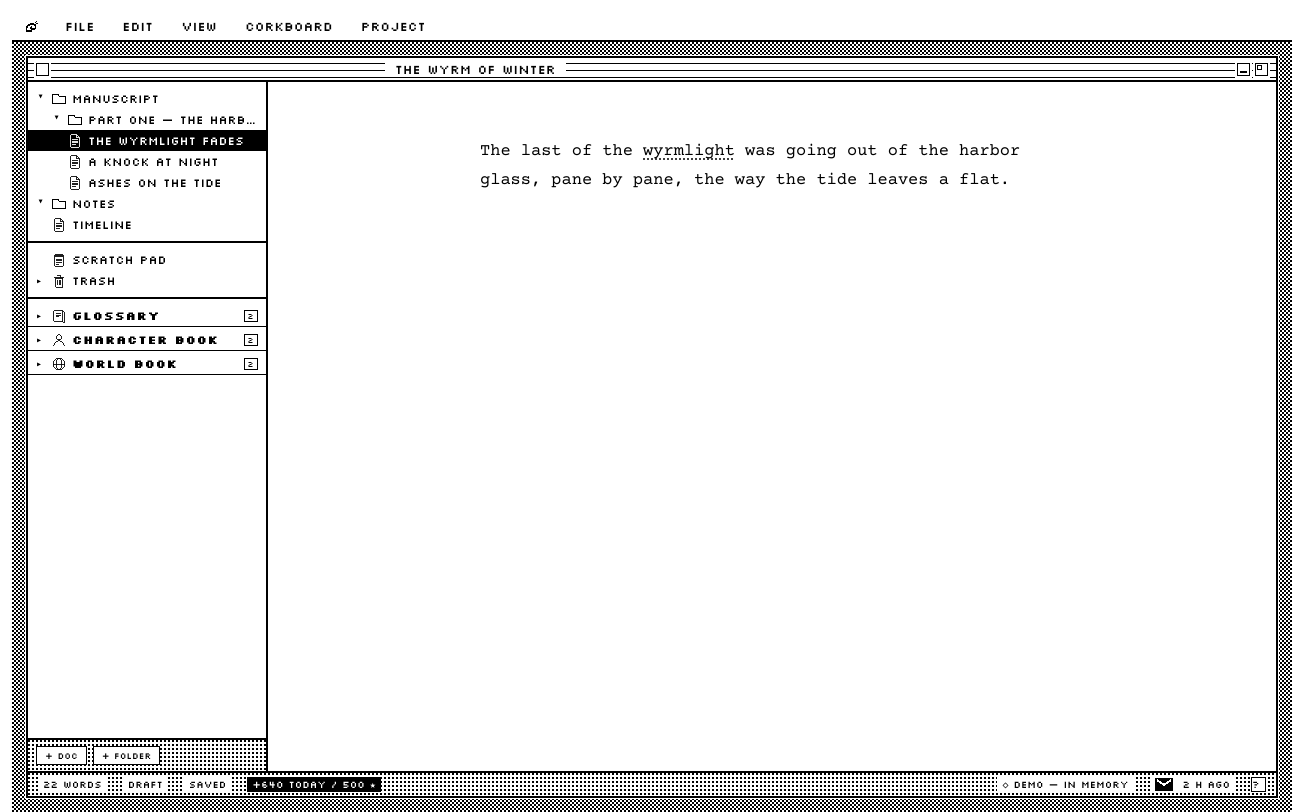
Test: focus mode (F-09) › hides the binder, side panel and status bar; the zoom box brings them back
The width and height of the screenshot is (1292, 812).
expect the element named "Binder" is shown: met, box [28,91,266,375]
Click the button named "Enter Focus Mode" at (1262, 69), box [1255,62,1268,76]
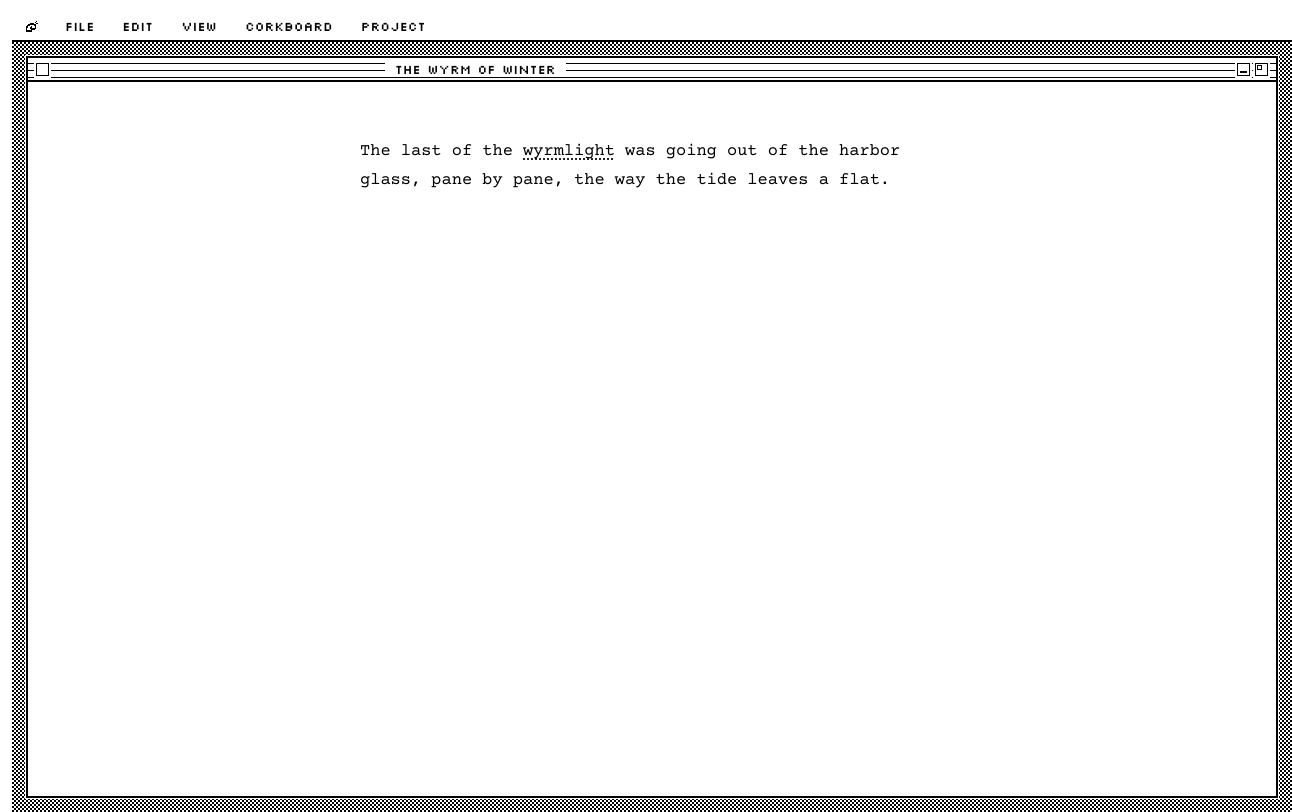
expect the element with class "status-bar" is gone: met
Click the button named "Exit Focus Mode" at (1262, 69), box [1255,62,1268,76]
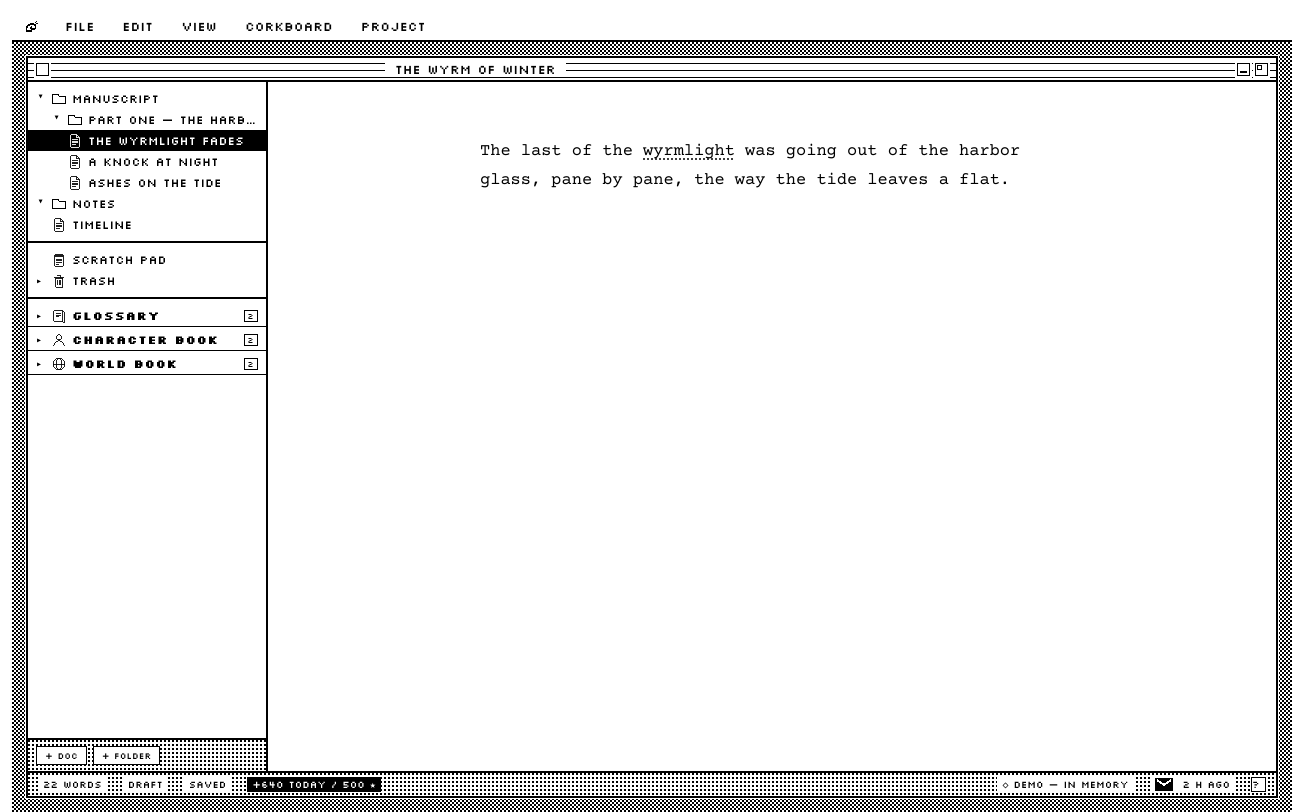
expect the element named "Binder" is shown: met, box [28,91,266,375]
expect the element with class "status-bar" is shown: met, box [28,771,1276,796]
